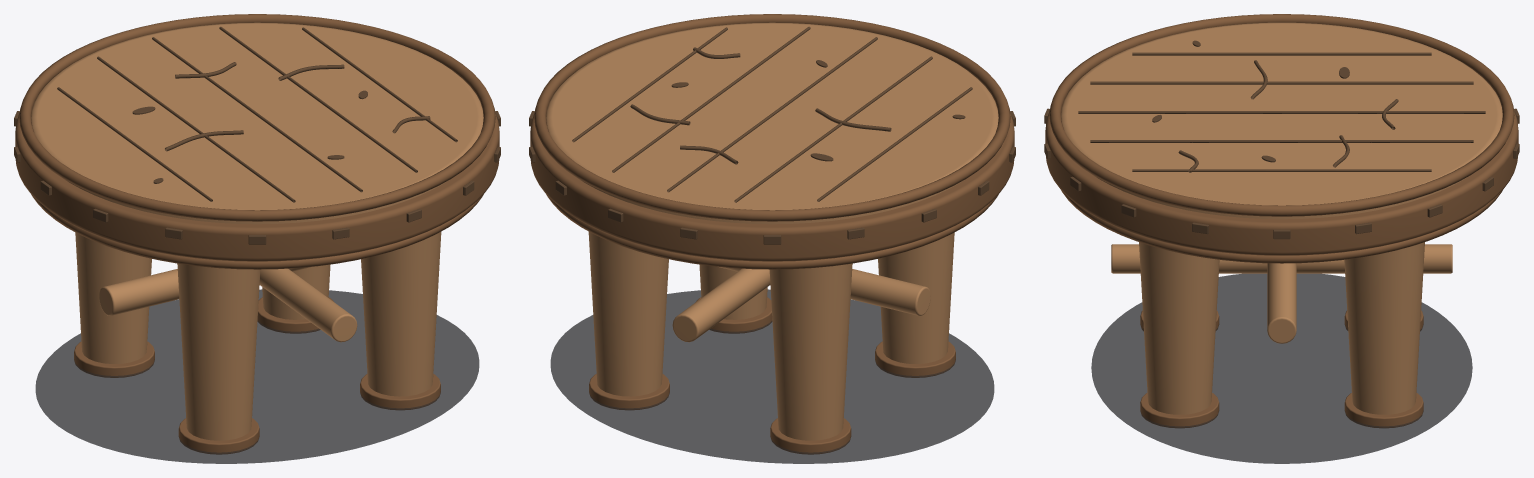
Rendered from tavern-wooden-table.glb.
3 views of the same model, side by side, from view 1: azimuth 30°, elevation 25°; view 2: azimuth 150°, elevation 25°; view 3: azimuth 270°, elevation 25° (orthographic). The views are drawn at different scales.
Parts seen in each view (by area): view 1: PROP_TavernTable_RoundMediumWoodTabletop, BASE_TavernTable_BakedSoftContactShadow, PROP_TavernTable_DarkOuterTabletopBand, PROP_TavernTable_ChunkyLeg_03, PROP_TavernTable_TopCarvedDarkRim, PROP_TavernTable_ChunkyLeg_04, PROP_TavernTable_ChunkyLeg_02, PROP_TavernTable_LowerDarkRim, PROP_TavernTable_YCrossSupportBeam, PROP_TavernTable_XCrossSupportBeam, PROP_TavernTable_ChunkyLeg_03_DarkWornFoot, PROP_TavernTable_ChunkyLeg_02_DarkWornFoot (+8 smaller); view 2: PROP_TavernTable_RoundMediumWoodTabletop, BASE_TavernTable_BakedSoftContactShadow, PROP_TavernTable_DarkOuterTabletopBand, PROP_TavernTable_ChunkyLeg_02, PROP_TavernTable_TopCarvedDarkRim, PROP_TavernTable_ChunkyLeg_01, PROP_TavernTable_ChunkyLeg_03, PROP_TavernTable_LowerDarkRim, PROP_TavernTable_YCrossSupportBeam, PROP_TavernTable_XCrossSupportBeam, PROP_TavernTable_ChunkyLeg_02_DarkWornFoot, PROP_TavernTable_ChunkyLeg_01_DarkWornFoot (+8 smaller); view 3: PROP_TavernTable_RoundMediumWoodTabletop, BASE_TavernTable_BakedSoftContactShadow, PROP_TavernTable_DarkOuterTabletopBand, PROP_TavernTable_TopCarvedDarkRim, PROP_TavernTable_ChunkyLeg_01, PROP_TavernTable_ChunkyLeg_04, PROP_TavernTable_LowerDarkRim, PROP_TavernTable_YCrossSupportBeam, PROP_TavernTable_XCrossSupportBeam, PROP_TavernTable_PlankSeam_02, PROP_TavernTable_ChunkyLeg_01_DarkWornFoot, PROP_TavernTable_ChunkyLeg_04_DarkWornFoot (+4 smaller).
Part boxes in pixels (x1=…): PROP_TavernTable_RoundMediumWoodTabletop: x1=31, y1=22, x2=483, y2=224; BASE_TavernTable_BakedSoftContactShadow: x1=35, y1=289, x2=479, y2=463; PROP_TavernTable_DarkOuterTabletopBand: x1=15, y1=112, x2=499, y2=261; PROP_TavernTable_ChunkyLeg_03: x1=177, y1=263, x2=260, y2=440; PROP_TavernTable_TopCarvedDarkRim: x1=19, y1=14, x2=495, y2=221; PROP_TavernTable_ChunkyLeg_04: x1=361, y1=232, x2=441, y2=396; PROP_TavernTable_ChunkyLeg_02: x1=75, y1=232, x2=151, y2=363; PROP_TavernTable_LowerDarkRim: x1=31, y1=194, x2=483, y2=269; PROP_TavernTable_YCrossSupportBeam: x1=259, y1=268, x2=357, y2=342; PROP_TavernTable_XCrossSupportBeam: x1=99, y1=266, x2=311, y2=315; PROP_TavernTable_ChunkyLeg_03_DarkWornFoot: x1=178, y1=418, x2=259, y2=454; PROP_TavernTable_ChunkyLeg_02_DarkWornFoot: x1=74, y1=341, x2=154, y2=377; PROP_TavernTable_RoundMediumWoodTabletop: x1=546, y1=22, x2=998, y2=224; BASE_TavernTable_BakedSoftContactShadow: x1=550, y1=289, x2=994, y2=463; PROP_TavernTable_DarkOuterTabletopBand: x1=530, y1=112, x2=1014, y2=261; PROP_TavernTable_ChunkyLeg_02: x1=769, y1=263, x2=852, y2=440; PROP_TavernTable_TopCarvedDarkRim: x1=534, y1=14, x2=1010, y2=221; PROP_TavernTable_ChunkyLeg_01: x1=588, y1=232, x2=668, y2=396; PROP_TavernTable_ChunkyLeg_03: x1=878, y1=232, x2=954, y2=363; PROP_TavernTable_LowerDarkRim: x1=546, y1=194, x2=998, y2=269; PROP_TavernTable_YCrossSupportBeam: x1=672, y1=268, x2=770, y2=342; PROP_TavernTable_XCrossSupportBeam: x1=718, y1=266, x2=930, y2=315; PROP_TavernTable_ChunkyLeg_02_DarkWornFoot: x1=770, y1=418, x2=851, y2=454; PROP_TavernTable_ChunkyLeg_01_DarkWornFoot: x1=589, y1=374, x2=669, y2=410; PROP_TavernTable_RoundMediumWoodTabletop: x1=1061, y1=22, x2=1502, y2=219; BASE_TavernTable_BakedSoftContactShadow: x1=1091, y1=273, x2=1472, y2=463; PROP_TavernTable_DarkOuterTabletopBand: x1=1045, y1=110, x2=1518, y2=255; PROP_TavernTable_TopCarvedDarkRim: x1=1049, y1=14, x2=1514, y2=216; PROP_TavernTable_ChunkyLeg_01: x1=1344, y1=242, x2=1424, y2=414; PROP_TavernTable_ChunkyLeg_04: x1=1139, y1=242, x2=1219, y2=414; PROP_TavernTable_LowerDarkRim: x1=1061, y1=190, x2=1502, y2=263; PROP_TavernTable_YCrossSupportBeam: x1=1111, y1=244, x2=1452, y2=273; PROP_TavernTable_XCrossSupportBeam: x1=1267, y1=263, x2=1296, y2=343; PROP_TavernTable_PlankSeam_02: x1=1090, y1=81, x2=1473, y2=84; PROP_TavernTable_ChunkyLeg_01_DarkWornFoot: x1=1344, y1=393, x2=1423, y2=428; PROP_TavernTable_ChunkyLeg_04_DarkWornFoot: x1=1140, y1=393, x2=1219, y2=428.
Size of the model in its own units: 1.46 by 0.87 by 1.45.
